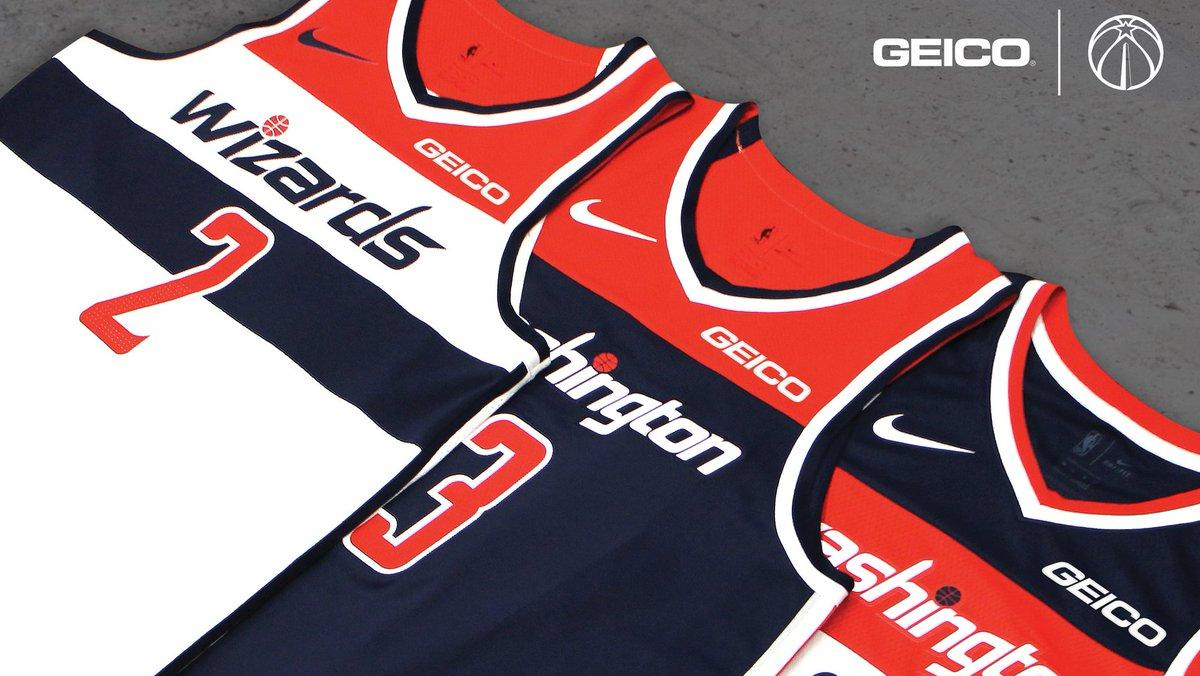geico: (1041, 563, 1179, 656), (698, 315, 822, 409), (408, 131, 518, 210), (870, 31, 1039, 75)
